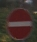No entry: (6, 5, 32, 37)
